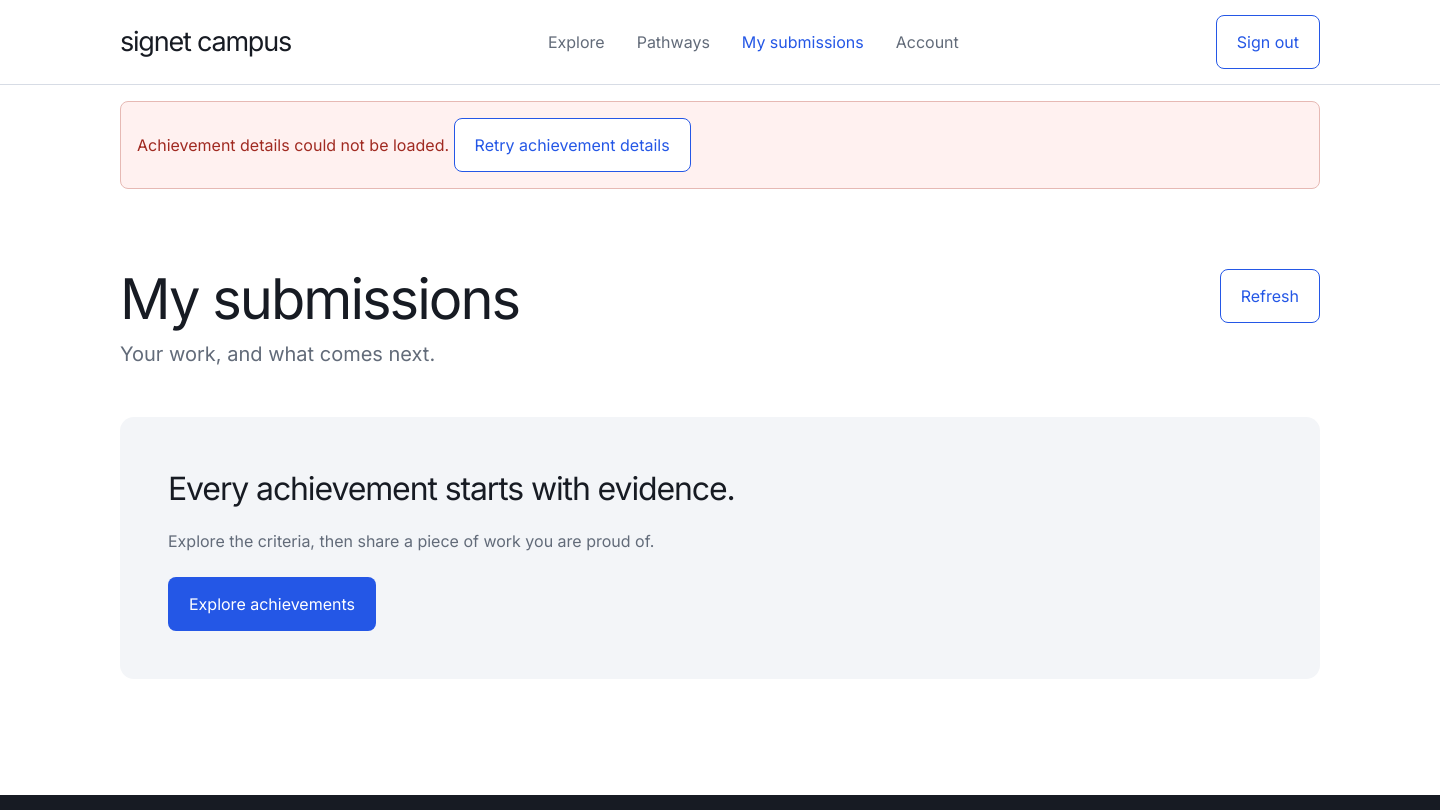
it: allows retrying historical metadata without losing the submissions view
Expected: the message shows "Achievement details could not be loaded", [137,135,454,155]
Click the button "Retry achievement details": point(572, 145) [454,118,691,172]
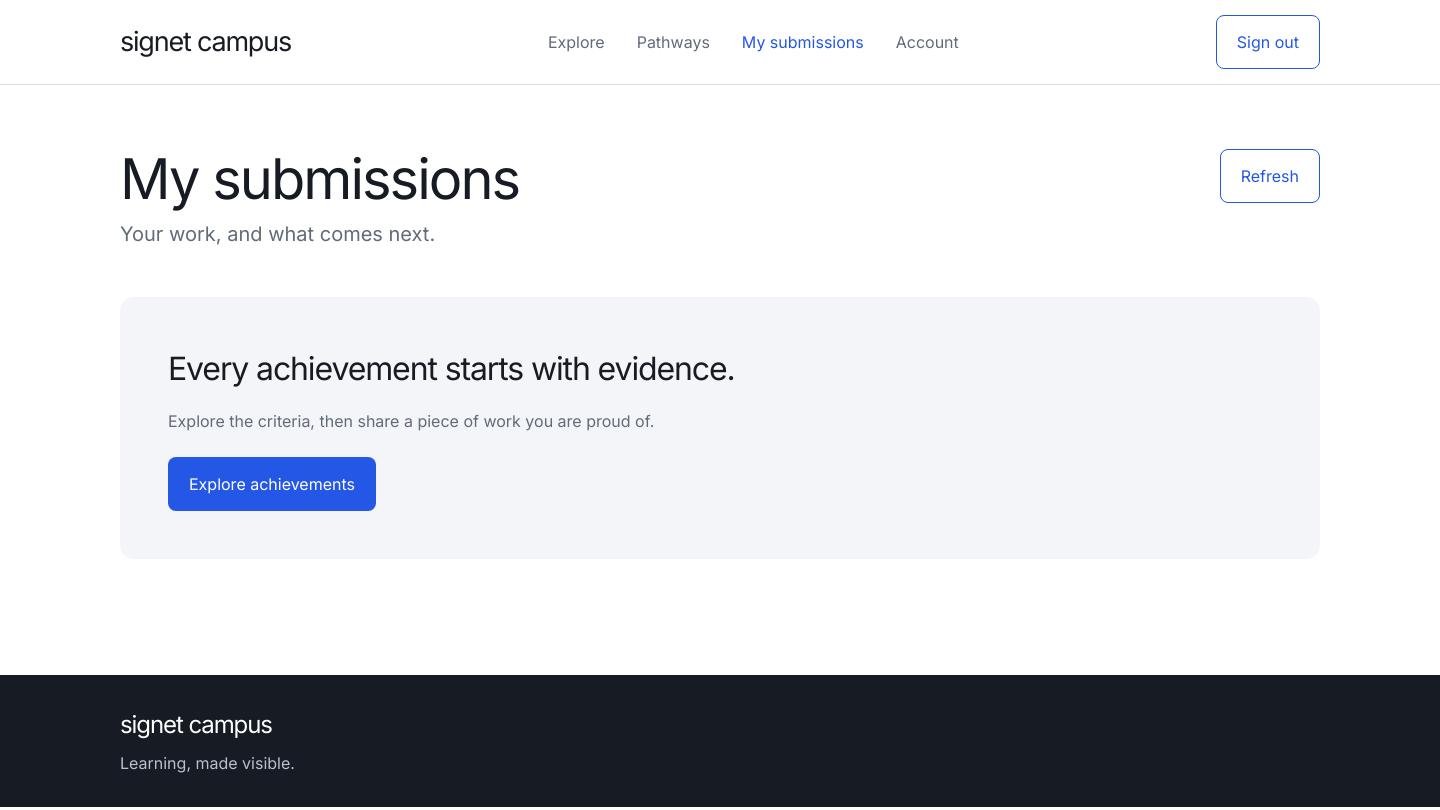
Expected: the heading "My submissions" is shown, [120,149,519,211]
Expected: the message "Achievement details could not be loaded. Retry achievement details" is gone
